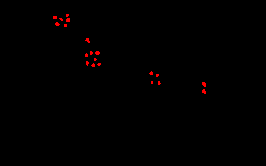Target: (85, 38, 90, 43), (55, 22, 60, 26), (95, 51, 100, 55), (202, 82, 206, 87), (202, 89, 206, 94), (66, 18, 70, 22), (91, 63, 95, 67), (149, 71, 153, 75), (86, 61, 89, 66), (53, 16, 57, 19), (59, 18, 63, 21), (90, 51, 93, 55), (85, 53, 88, 57), (97, 63, 101, 66), (158, 81, 161, 85), (66, 14, 69, 17), (64, 24, 67, 27), (94, 58, 97, 61), (156, 74, 159, 77), (151, 81, 153, 84)
